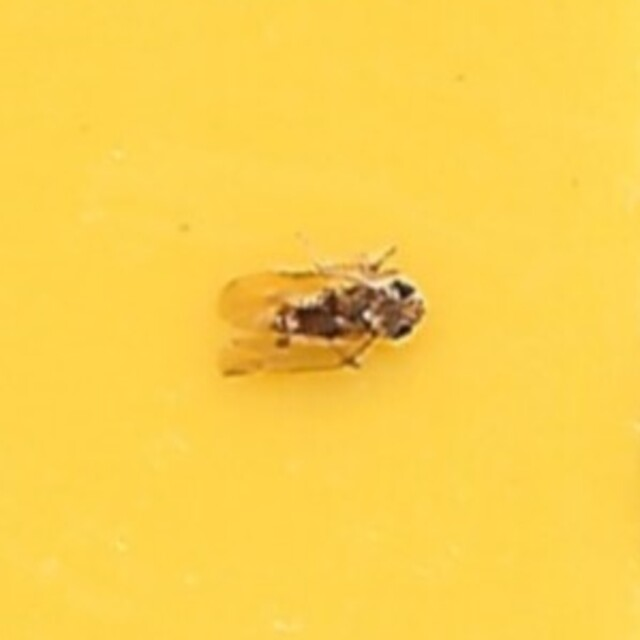Hemiptera: (214, 258, 426, 382)
